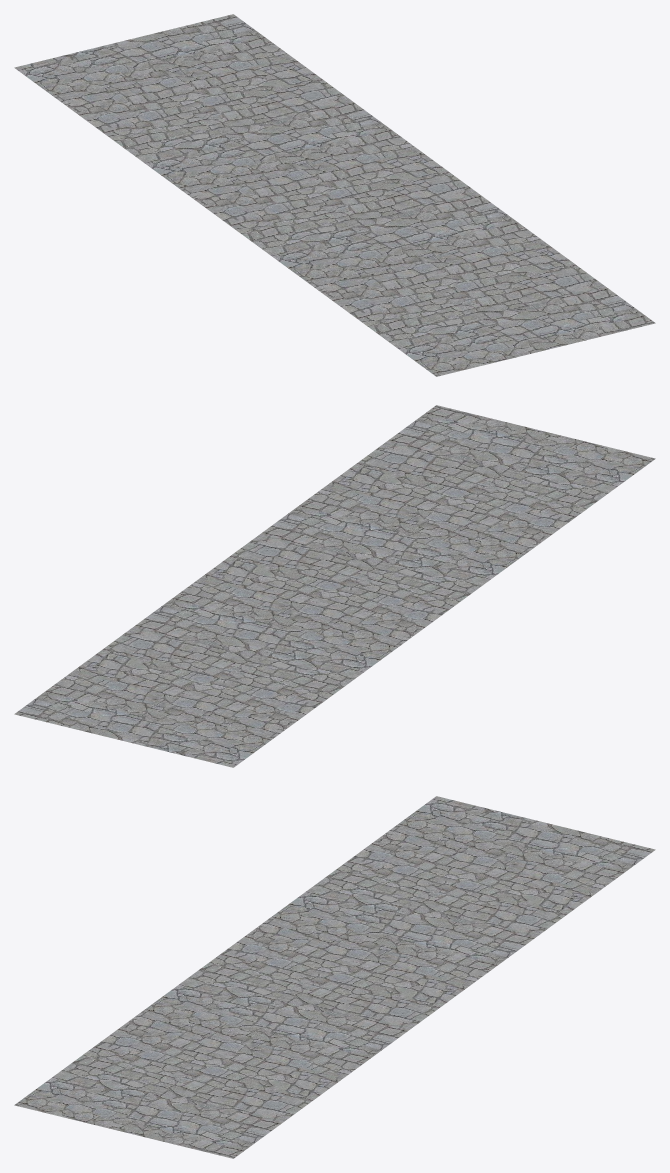
Rendered from 人行道.fbx.
The picture shows the model from 3 angles, top to bottom: view 1: azimuth 30°, elevation 25°; view 2: azimuth 150°, elevation 25°; view 3: azimuth 330°, elevation 25°; orthographic projection.
Parts seen in each view (by area): view 1: Plane003; view 2: Plane003; view 3: Plane003.
Part boxes in pixels (x1,y1,x2,y2): Plane003: (14, 14, 655, 376); Plane003: (14, 405, 655, 767); Plane003: (14, 796, 655, 1158).
Size of the model in its own units: 3000 by 6.12e-13 by 10000.
1 material, 1 textured.
